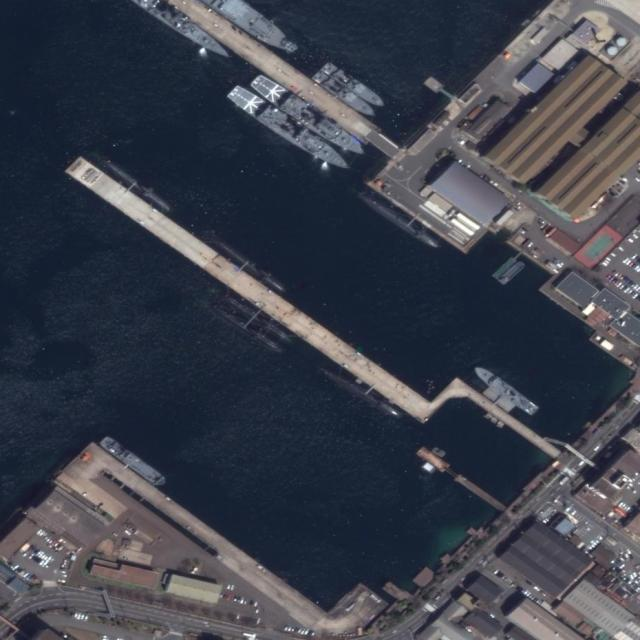Destroyer: (226, 81, 354, 180), (247, 70, 370, 164)
Dock: (66, 156, 439, 423)
Other Warship: (471, 362, 540, 418), (310, 69, 381, 122), (320, 58, 390, 111)
Submarine: (357, 191, 438, 249), (318, 365, 401, 418), (216, 239, 288, 295), (102, 157, 172, 213), (224, 293, 292, 343), (213, 304, 281, 351)
